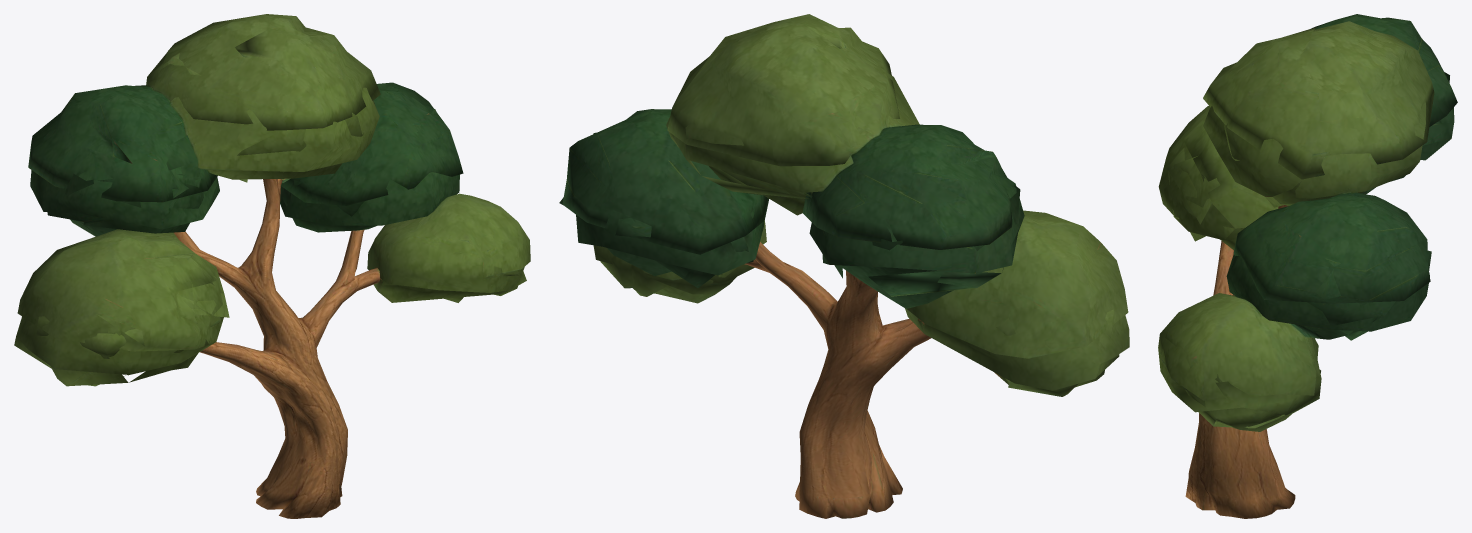
Rendered from AW-TREE-001-v0.2.glb.
3 views of the same model, side by side, from view 1: azimuth 30°, elevation 25°; view 2: azimuth 150°, elevation 25°; view 3: azimuth 270°, elevation 25° (orthographic). The views are drawn at different scales.
Visible parts, largest first — view 1: AW-TREE-001_meter_ground_pivot; view 2: AW-TREE-001_meter_ground_pivot; view 3: AW-TREE-001_meter_ground_pivot.
Boxes of the visible parts, bbox=[...] form: AW-TREE-001_meter_ground_pivot: bbox=[14, 14, 530, 518]; AW-TREE-001_meter_ground_pivot: bbox=[559, 14, 1129, 518]; AW-TREE-001_meter_ground_pivot: bbox=[1158, 14, 1457, 518].
Bounding box in the file's own units: 4.69 × 4.2 × 2.43.
1 material, 1 textured.
